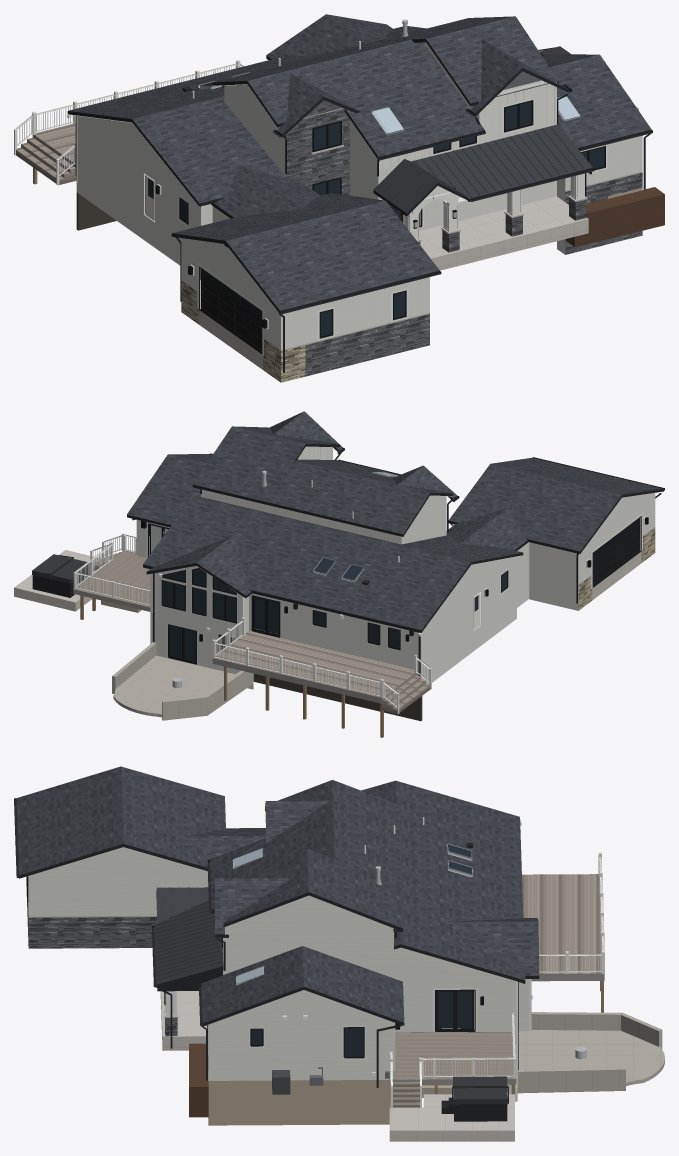
The model's file is house.glb.
The picture shows the model from 3 angles, top to bottom: view 1: azimuth 30°, elevation 25°; view 2: azimuth 150°, elevation 25°; view 3: azimuth 270°, elevation 25°; orthographic projection. The views are drawn at different scales.
Visible parts, largest first — view 1: garage_roof, core_west_roof, north_range_roof, north_range_walls, garage_walls, porch_roof, front_porch_floor, east_wing_roof, core_east_roof, core_west_walls, garage_walls_stone, core_west_walls_stone (+30 smaller); view 2: north_range_roof, north_range_walls, garage_roof, core_west_roof, rear_deck, core_east_roof, garage_walls, rear_patio, east_wing_roof, core_west_walls, sides_deck_east_boards, north_bay_walls (+34 smaller); view 3: north_range_roof, garage_roof, east_wing_walls, core_west_roof, garage_walls, core_east_walls, east_wing_roof, east_wing_walls_foundation, rear_deck, core_east_roof, north_range_walls, rear_patio (+27 smaller).
Part boxes in pixels (x1=…): garage_roof: x1=172, y1=193, x2=439, y2=310; core_west_roof: x1=214, y1=38, x2=484, y2=156; north_range_roof: x1=68, y1=26, x2=426, y2=203; north_range_walls: x1=76, y1=116, x2=212, y2=279; garage_walls: x1=181, y1=238, x2=429, y2=349; porch_roof: x1=411, y1=124, x2=592, y2=198; front_porch_floor: x1=419, y1=196, x2=588, y2=270; east_wing_roof: x1=542, y1=54, x2=651, y2=148; core_east_roof: x1=378, y1=16, x2=558, y2=103; core_west_walls: x1=224, y1=84, x2=479, y2=230; garage_walls_stone: x1=305, y1=314, x2=429, y2=376; core_west_walls_stone: x1=286, y1=108, x2=349, y2=195; north_range_roof: x1=143, y1=495, x2=522, y2=630; north_range_walls: x1=154, y1=556, x2=516, y2=683; garage_roof: x1=449, y1=457, x2=662, y2=551; core_west_roof: x1=268, y1=459, x2=451, y2=534; rear_deck: x1=215, y1=630, x2=417, y2=697; core_east_roof: x1=193, y1=426, x2=337, y2=502; garage_walls: x1=529, y1=493, x2=655, y2=610; rear_patio: x1=113, y1=655, x2=234, y2=717; east_wing_roof: x1=127, y1=454, x2=212, y2=524; core_west_walls: x1=264, y1=496, x2=446, y2=544; sides_deck_east_boards: x1=73, y1=550, x2=150, y2=606; north_bay_walls: x1=157, y1=566, x2=248, y2=638; north_range_roof: x1=361, y1=780, x2=525, y2=980; garage_roof: x1=16, y1=766, x2=225, y2=875; east_wing_walls: x1=207, y1=990, x2=395, y2=1080; core_west_roof: x1=210, y1=780, x2=401, y2=910; garage_walls: x1=28, y1=847, x2=208, y2=916; core_east_walls: x1=223, y1=895, x2=393, y2=978; east_wing_roof: x1=201, y1=946, x2=404, y2=1023; east_wing_walls_foundation: x1=208, y1=1071, x2=390, y2=1125; rear_deck: x1=522, y1=874, x2=601, y2=973; core_east_roof: x1=223, y1=849, x2=402, y2=928; north_range_walls: x1=394, y1=947, x2=515, y2=1037; rear_patio: x1=518, y1=1030, x2=664, y2=1086.
Size of the model in its own units: 27.96 by 10.46 by 29.07.
Materials: 42 (13 with a texture image).
